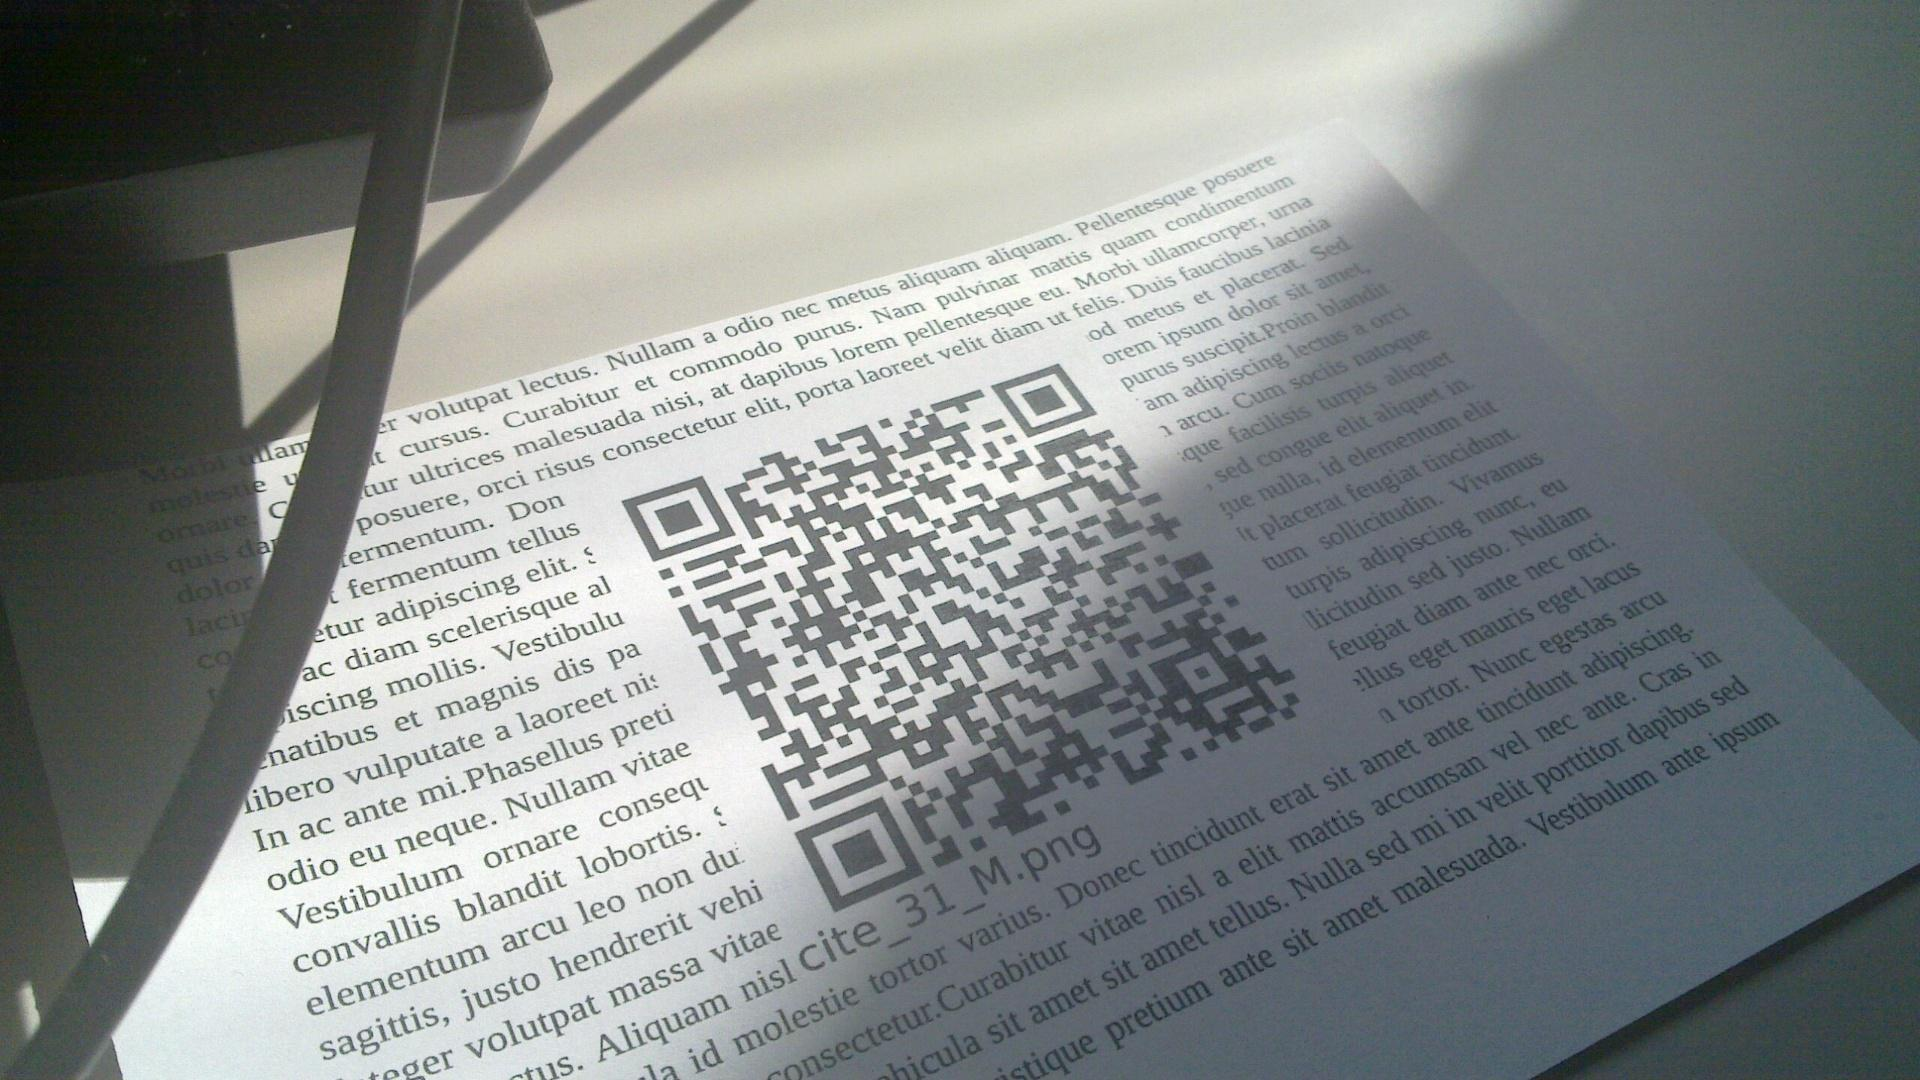Finder pattern: (794, 800, 928, 911), (615, 476, 736, 562), (984, 357, 1097, 443)
